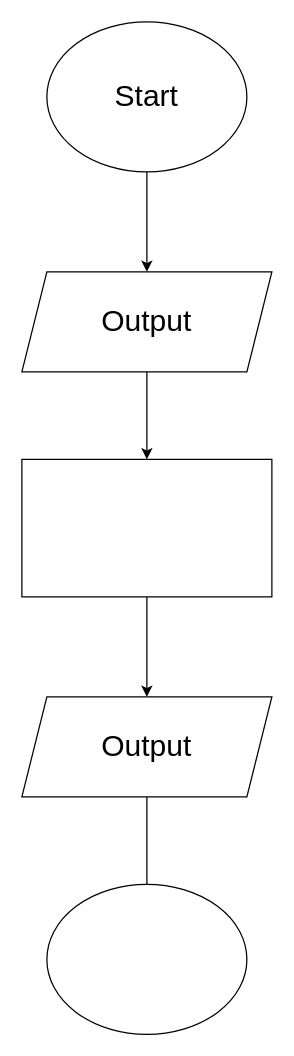
Image size: 294x1056. Some labels were removed from this diagram. Each missing label, with the centre of its shape:
"End" belongs at pixel 146 958.
"Processing" belongs at pixel 146 527.
